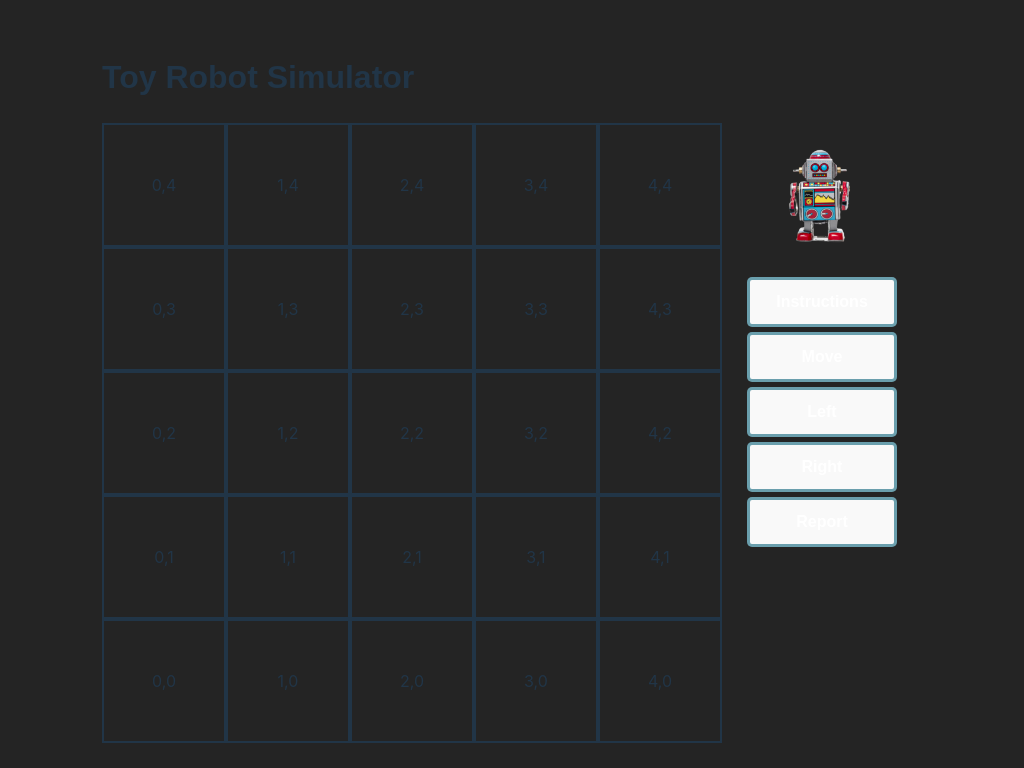
Test: App Component › opens modal when Instructions button is clicked
Click the button "Instructions" at point(822, 302), box [747,277,897,327]
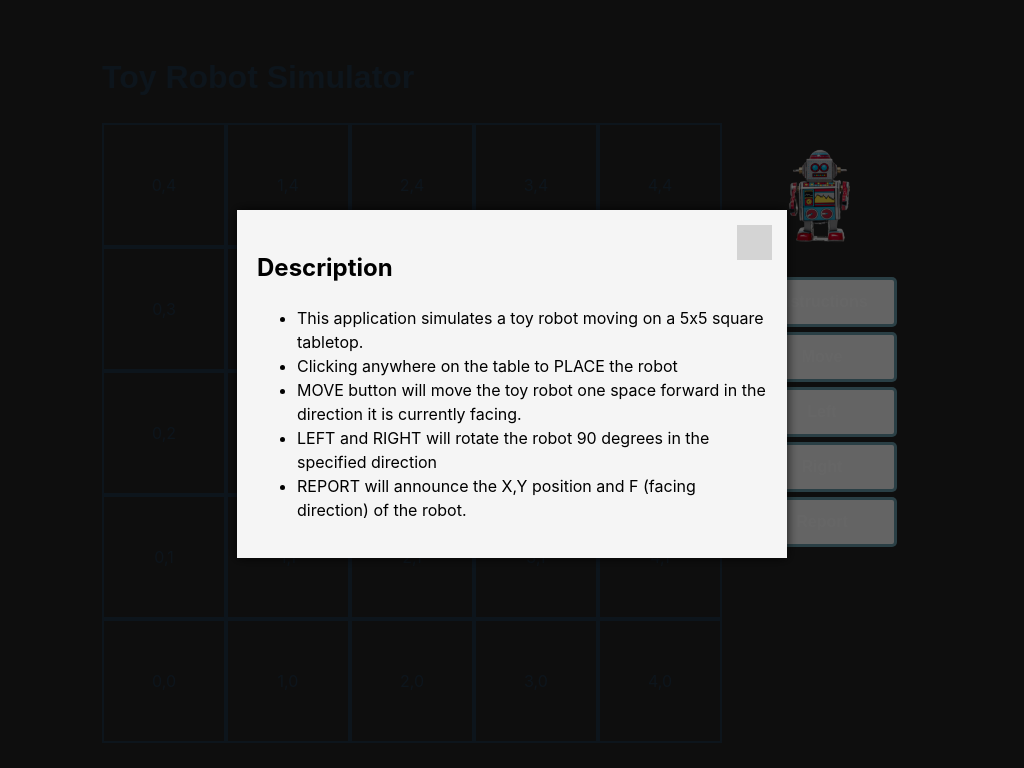
Expected: the element with test id "modal" that starts with "Description" is shown
